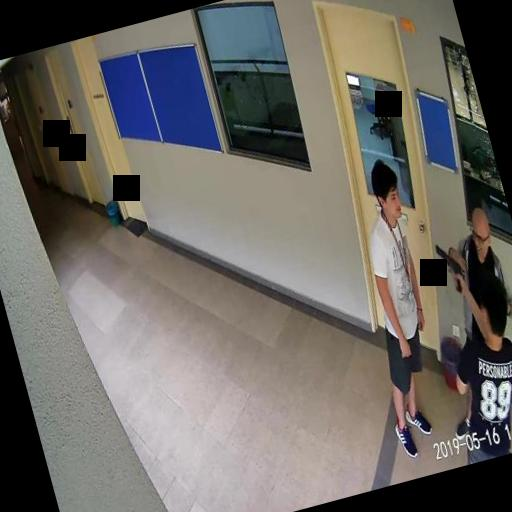Handgun: (432, 240, 466, 296)
